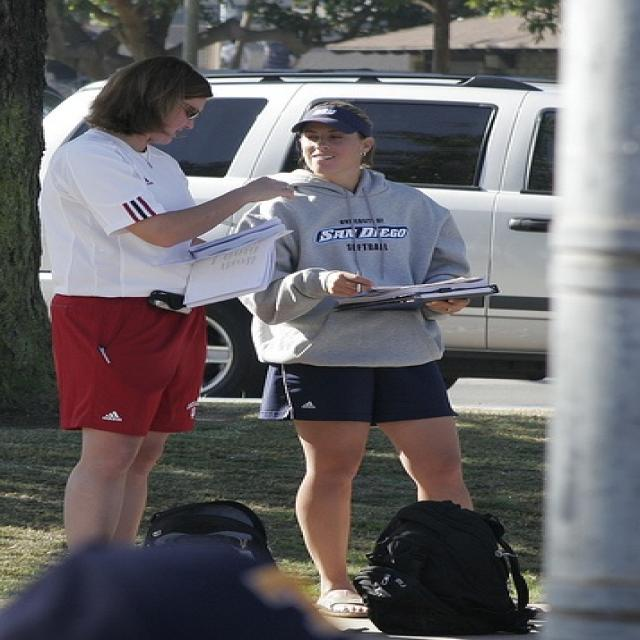car: (39, 73, 560, 398)
